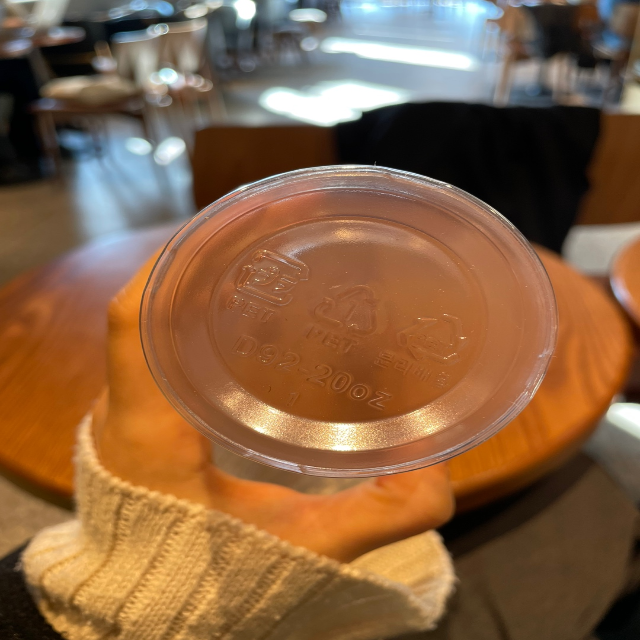pet: (226, 235, 309, 329), (386, 304, 474, 386), (312, 270, 381, 358)
